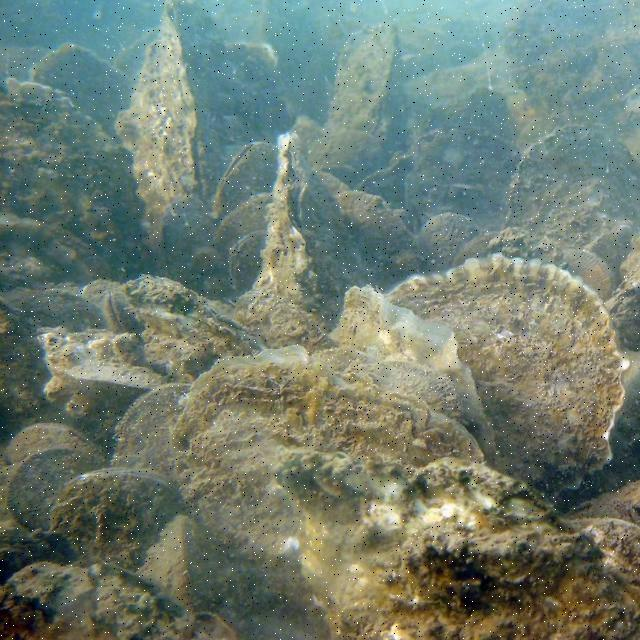Oyster-Closed: (172, 346, 488, 640), (275, 451, 640, 640), (382, 255, 632, 497), (0, 76, 149, 282), (333, 288, 495, 463), (115, 0, 228, 247), (252, 133, 371, 335), (507, 123, 640, 292), (504, 0, 640, 122), (0, 559, 193, 640), (51, 466, 191, 569), (125, 279, 264, 381), (404, 126, 522, 235), (31, 43, 137, 147), (327, 23, 409, 151), (338, 190, 427, 294), (139, 515, 229, 613), (6, 447, 108, 533), (111, 383, 192, 479), (165, 198, 234, 300), (213, 141, 278, 222), (7, 424, 106, 464), (421, 213, 480, 272), (214, 194, 274, 251), (356, 156, 417, 212), (560, 253, 612, 299), (227, 228, 266, 289), (106, 292, 146, 341), (81, 281, 124, 313)
Oyster-Open: (322, 166, 361, 193)
